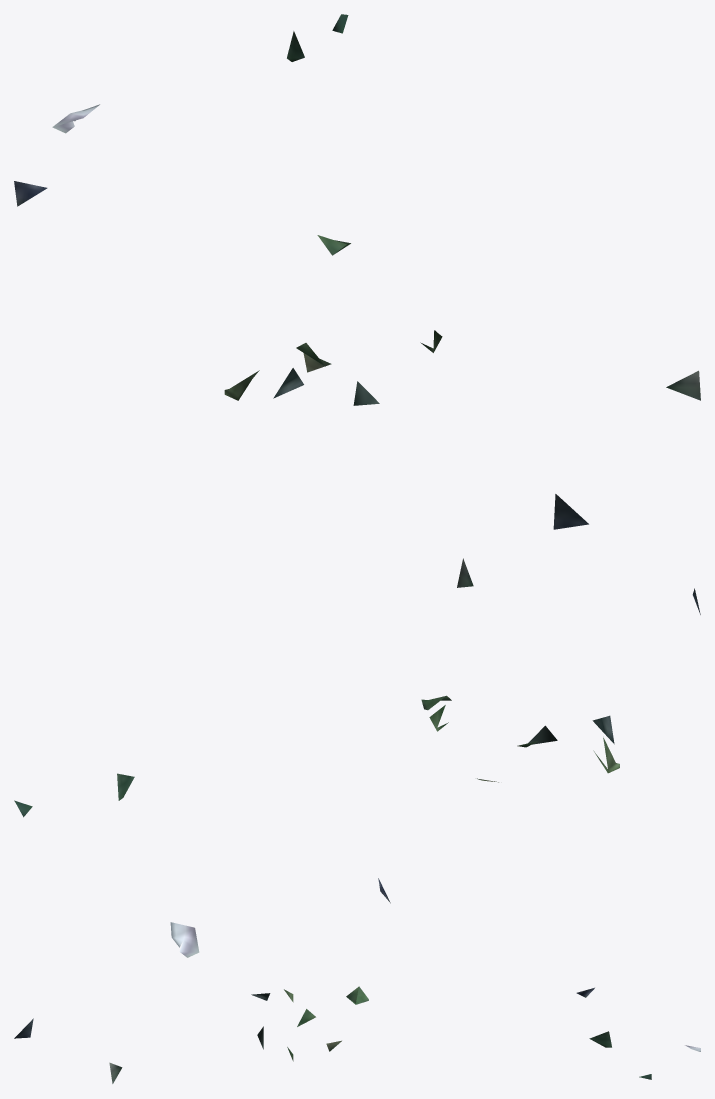
3 renders of one model, top to bottom at view 1: azimuth 30°, elevation 25°; view 2: azimuth 150°, elevation 25°; view 3: azimuth 270°, elevation 25°, orthographic. The views are drawn at different scales.
Parts seen in each view (by area): view 1: 3043627270437062562_1; view 2: 3043627270437062562_1; view 3: 3043627270437062562_1.
Part boxes in pixels (x1,y1,x2,y2): 3043627270437062562_1: [14, 14, 700, 529]; 3043627270437062562_1: [14, 558, 700, 957]; 3043627270437062562_1: [14, 986, 700, 1083].
Size of the model in its own units: 27.6 by 8.02 by 64.48.
Materials: 1 (1 with a texture image).
